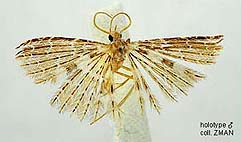Alucitidae: (11, 6, 223, 134)
moth: (9, 4, 221, 132)
